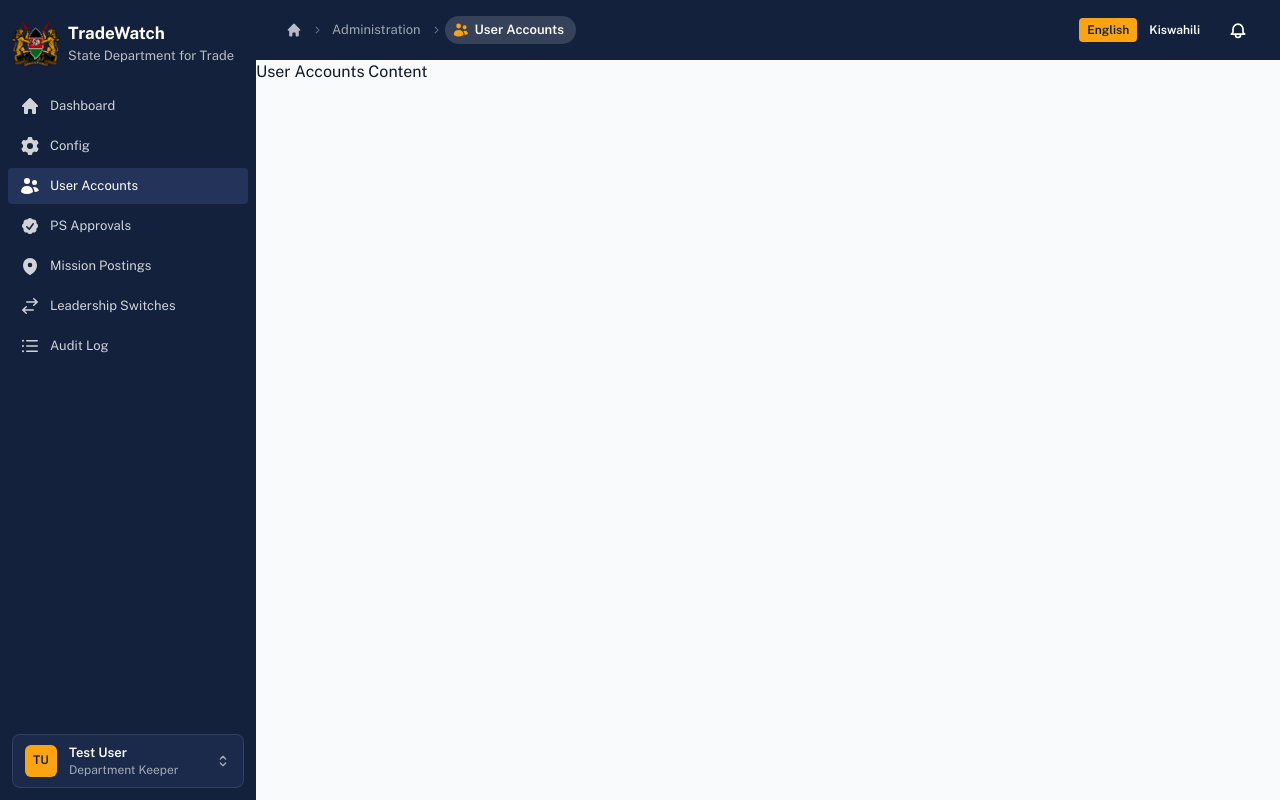
Test: AppLayout › TC-FR-AUTH-025: the user menu shows the role display title and department, falling back to the role name
Check: the text "Department Keeper" is shown, box [69,763,178,777]
What coordinates should you click on to do the following:
click the button "TU Test User Department Keeper"
I would click on:
 (128, 761)
Its box is [12,734,244,788].
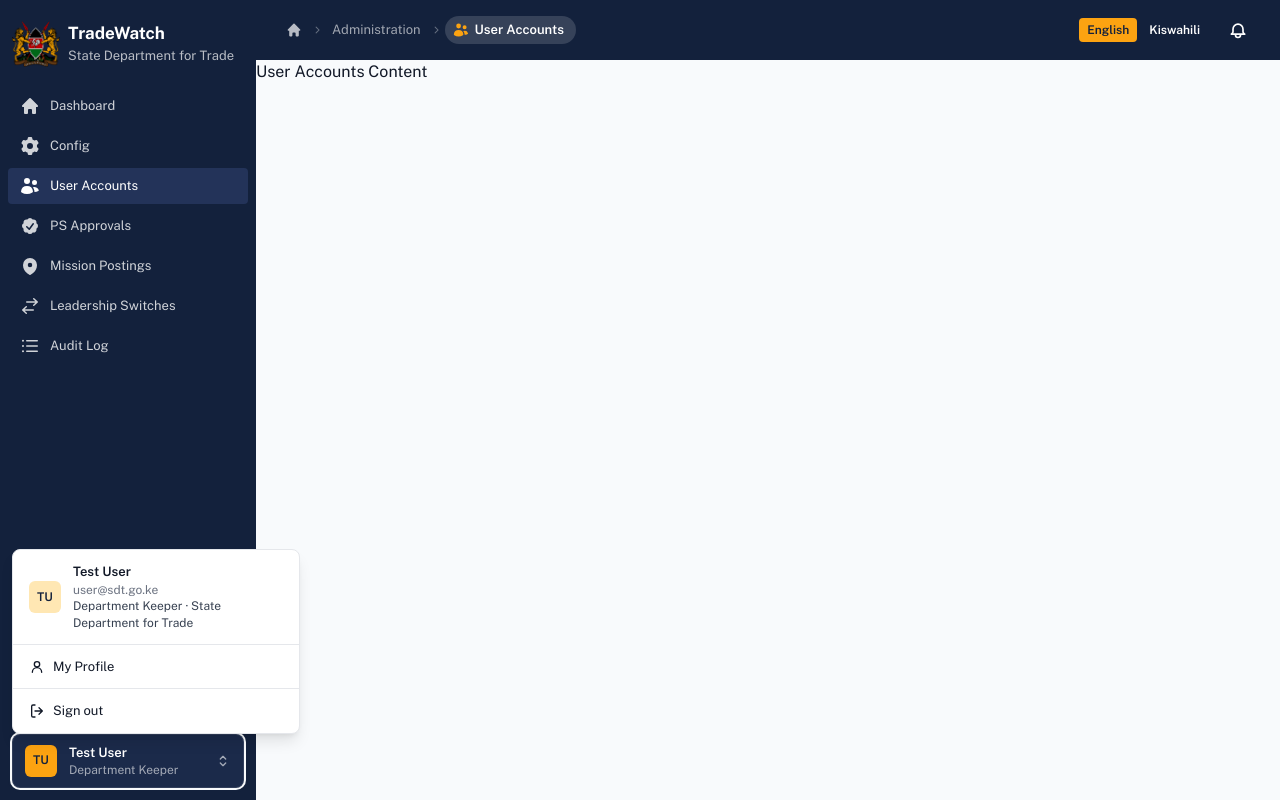
Check: the text with test id "user-menu-title" reads "Department Keeper · State Department for Trade", box [73,599,221,630]
